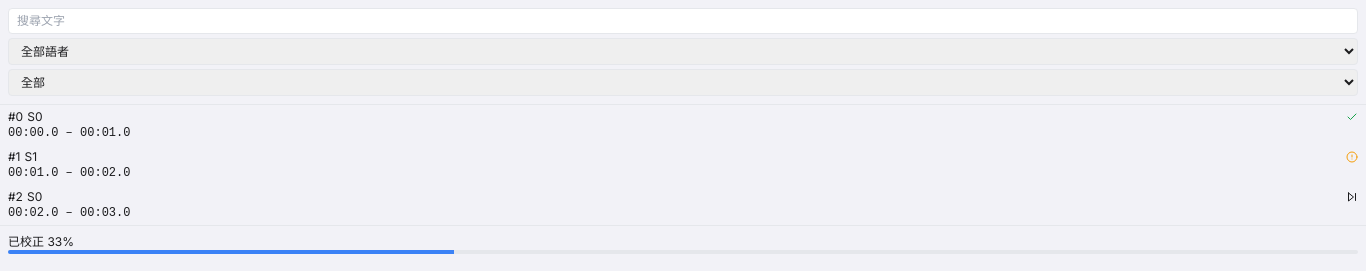
Test: SegmentList › 依語者篩選
The image size is (1366, 271).
Select "S1" in the dropdown named "依語者": (683, 52) [8, 38, 1358, 65]
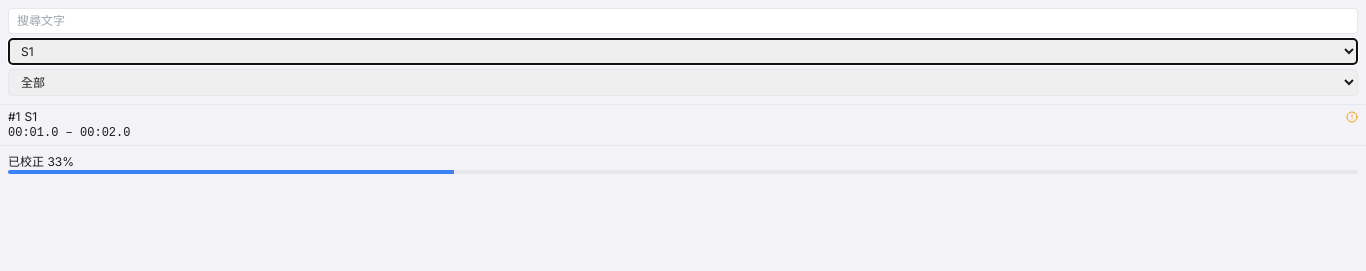
Check: the number of list items is 1, box [0, 105, 1365, 145]
